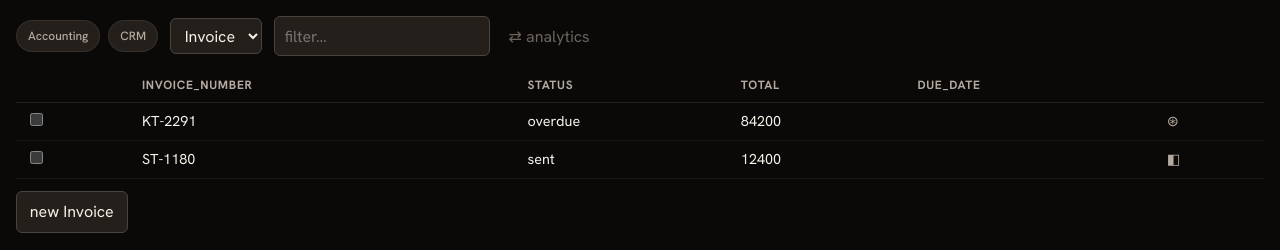
Scenario: the analytics flip › counts by an enum field and echoes the flip
Expected: the row "KT-2291 overdue 84200 ⊛" is shown, [16,102,1264,140]
Click the button "⇄ analytics" at (549, 36), box [502,22,596,51]
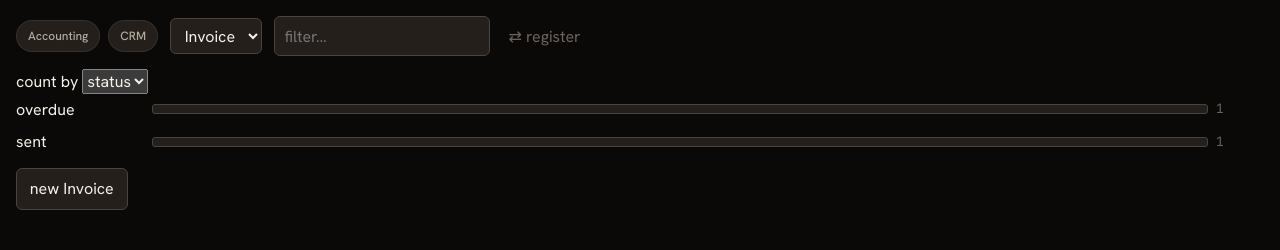
Expected: the text "overdue" is shown, [16,99,75,120]
Expected: the element showing "count by overdue 1 sent 1" is shown, [16,68,1264,156]
